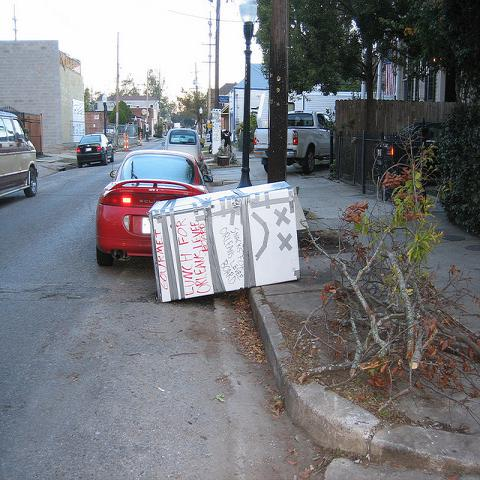car: (95, 148, 213, 266), (0, 112, 39, 197), (161, 131, 204, 173), (76, 134, 115, 168)
truck: (253, 111, 332, 175)
